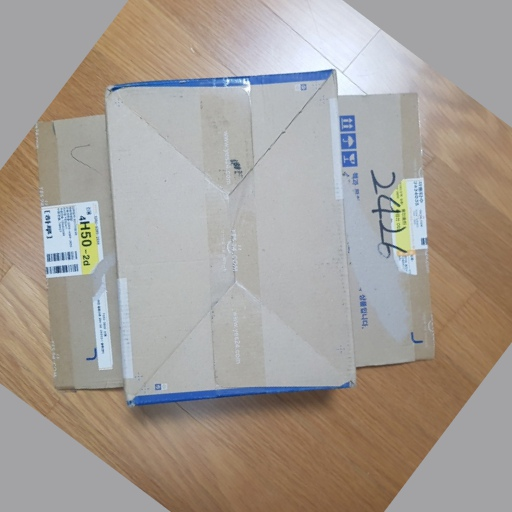Paper_0: (30, 70, 439, 411)
